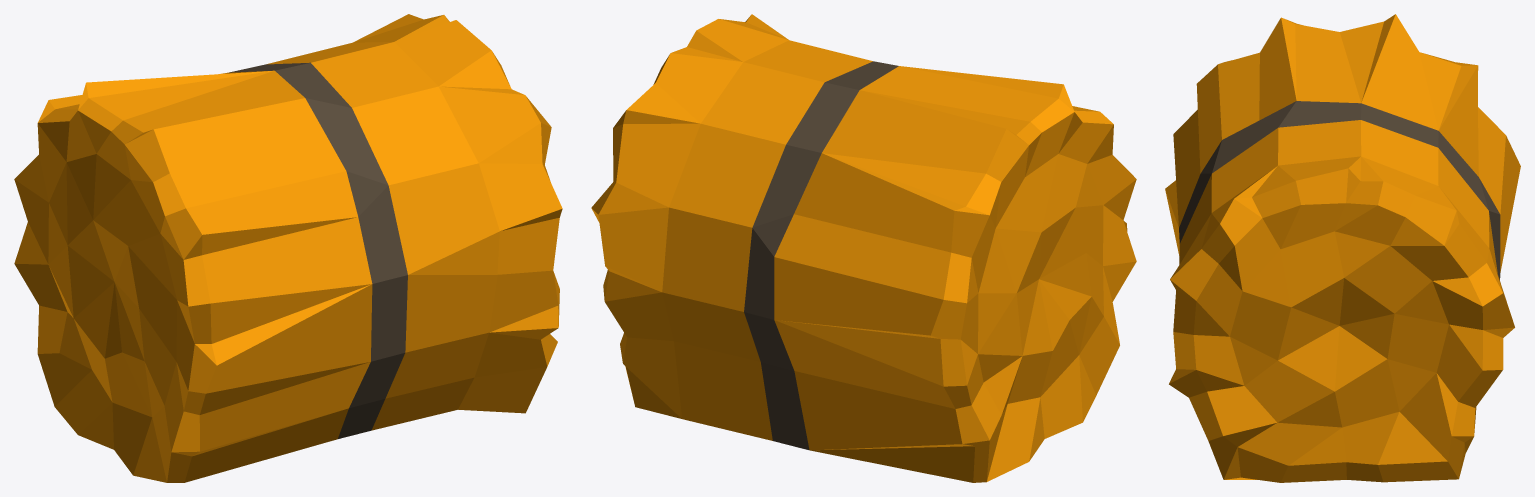
The model's file is wheat.fbx.
3 views of the same model, side by side, from view 1: azimuth 30°, elevation 25°; view 2: azimuth 150°, elevation 25°; view 3: azimuth 270°, elevation 25° (orthographic). The views are drawn at different scales.
Parts seen in each view (by area): view 1: On_Cart_Wheat_single; view 2: On_Cart_Wheat_single; view 3: On_Cart_Wheat_single.
Part boxes in pixels (x1,y1,x2,y2): On_Cart_Wheat_single: [14, 14, 562, 482]; On_Cart_Wheat_single: [591, 14, 1136, 482]; On_Cart_Wheat_single: [1165, 14, 1520, 482].
Size of the model in its own units: 360 by 303 by 311.
Materials: 1 (1 with a texture image).
